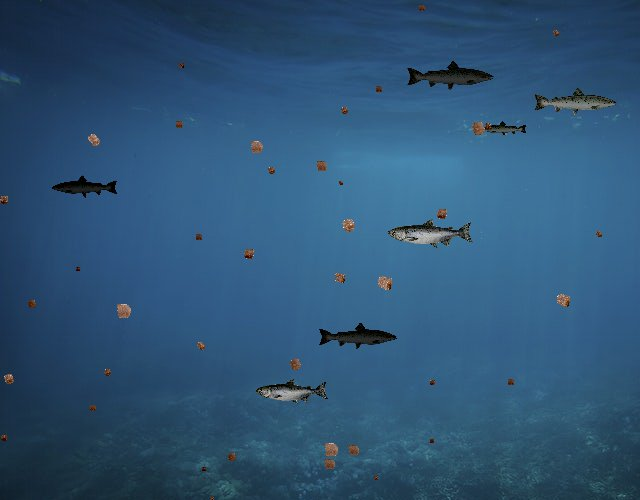Fish: (405, 60, 495, 92), (532, 86, 618, 117), (388, 218, 474, 249), (317, 321, 398, 350), (257, 378, 330, 405), (51, 175, 119, 199), (482, 120, 529, 137)
Pellet: (108, 296, 138, 326), (243, 134, 270, 161), (238, 243, 260, 265), (0, 368, 20, 390), (372, 82, 386, 96), (426, 376, 439, 389), (175, 59, 188, 72), (206, 494, 216, 500)
